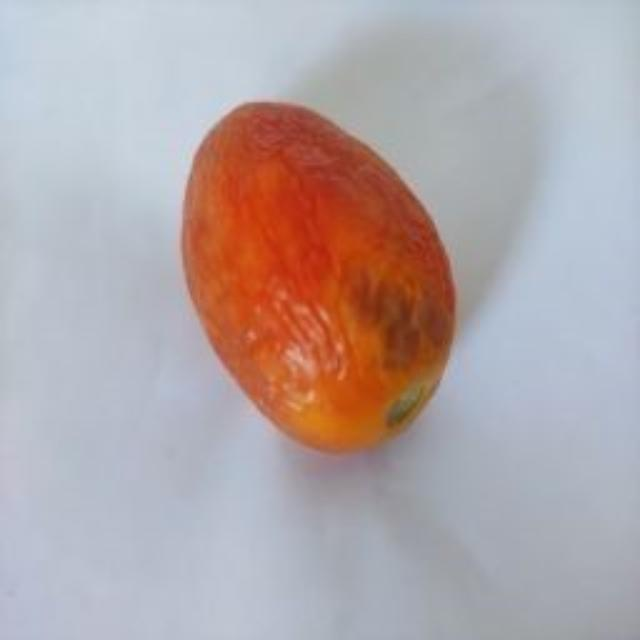defect: (173, 90, 464, 453)
